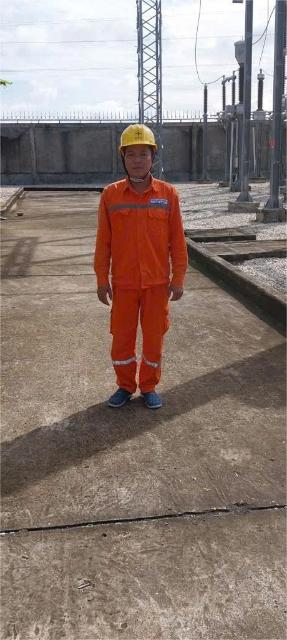helmet: (112, 116, 168, 152)
shoes: (102, 373, 133, 418), (139, 374, 168, 416)
